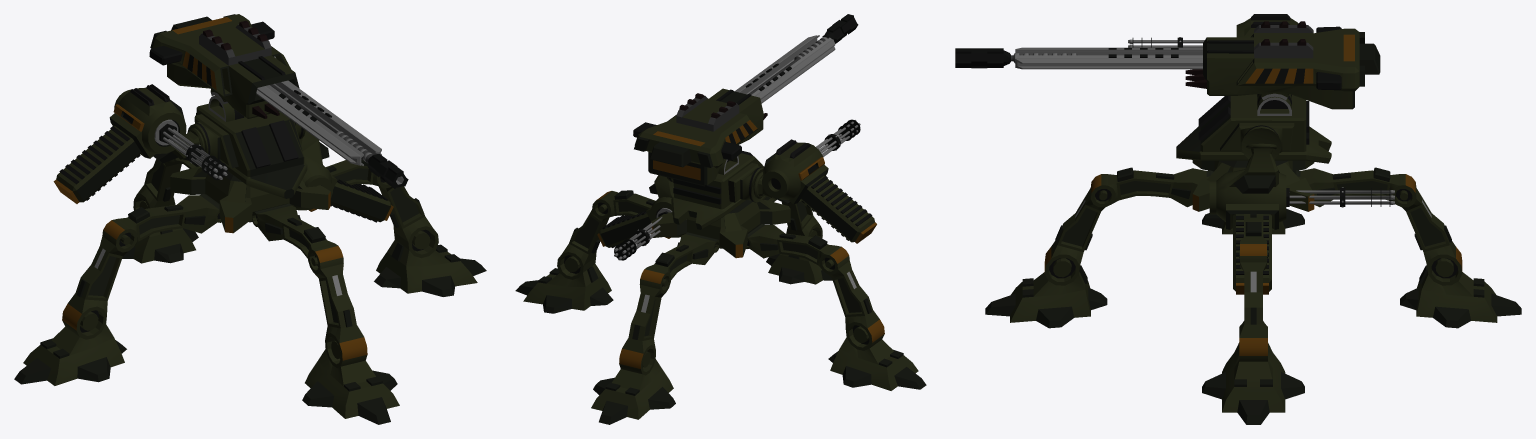
File: Tourelle.FBX
3 views of the same model, side by side, from view 1: azimuth 30°, elevation 25°; view 2: azimuth 150°, elevation 25°; view 3: azimuth 270°, elevation 25° (orthographic). The views are drawn at different scales.
Parts seen in each view (by area): view 1: Leg1, Leg2, Head, MainBase, HandBase1, Leg3, LegsBase, Leg4, GunSides, HandBase002, MainGunBase; view 2: Leg1, Head, Leg4, Leg3, HandBase1, MainBase, LegsBase, Leg2, GunSides, HandBase002, MainGunBase; view 3: Head, Leg2, Leg4, Leg3, MainBase, HandBase002, GunSides, LegsBase, MainGunBase, Leg1, HandBase1.
Part boxes in pixels (box(x1,y1,x2,y2)): Leg1: box(14, 194, 221, 385); Leg2: box(252, 203, 399, 424); Head: box(149, 14, 299, 118); MainBase: box(187, 95, 307, 198); HandBase1: box(53, 84, 204, 203); Leg3: box(326, 159, 486, 296); LegsBase: box(170, 166, 330, 233); Leg4: box(122, 158, 199, 263); GunSides: box(256, 80, 381, 165); HandBase002: box(293, 130, 393, 222); MainGunBase: box(270, 84, 408, 188); Leg1: box(746, 224, 926, 390); Head: box(633, 88, 767, 186); Leg4: box(591, 232, 719, 424); Leg3: box(515, 190, 655, 313); HandBase1: box(753, 139, 876, 243); MainBase: box(667, 151, 764, 229); LegsBase: box(651, 200, 790, 258); Leg2: box(762, 196, 832, 284); GunSides: box(735, 35, 835, 103); HandBase002: box(597, 175, 683, 247); MainGunBase: box(749, 14, 858, 94); Head: box(1185, 21, 1380, 109); Leg2: box(985, 167, 1213, 328); Leg4: box(1293, 167, 1521, 328); Leg3: box(1202, 211, 1304, 424); MainBase: box(1176, 94, 1331, 163); HandBase002: box(1209, 143, 1286, 294); GunSides: box(1015, 47, 1202, 69); LegsBase: box(1192, 160, 1314, 211); MainGunBase: box(955, 48, 1077, 68); Leg1: box(1202, 209, 1304, 234); HandBase1: box(1236, 14, 1313, 37).
Size of the model in its own units: 152 by 87.73 by 161.
